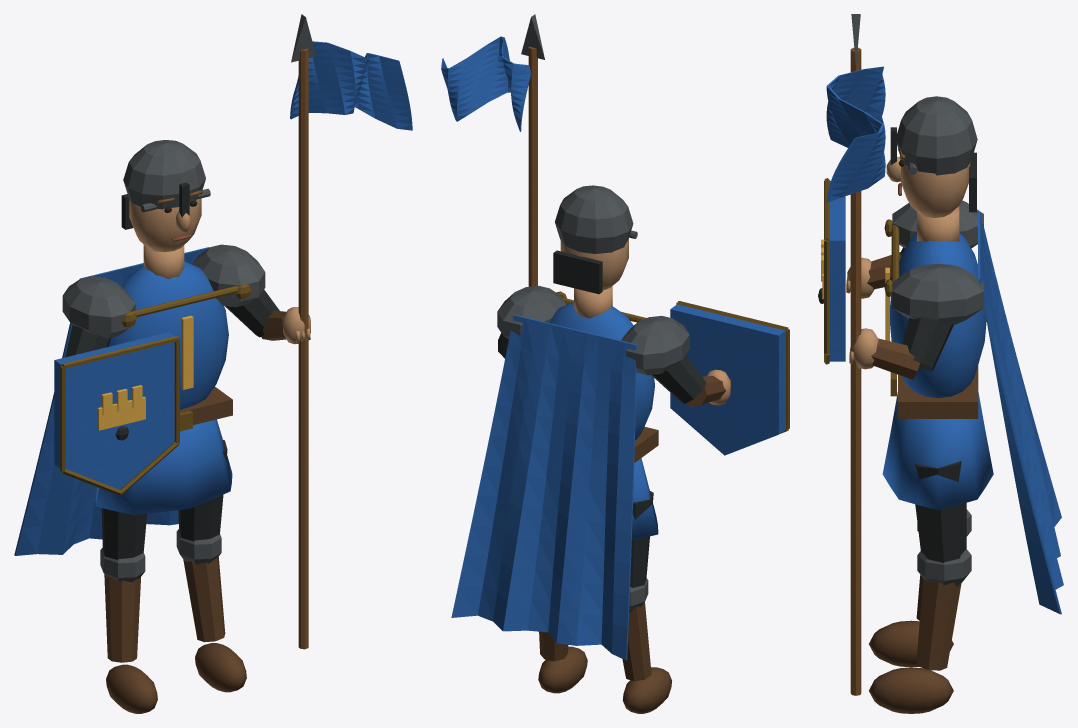
The model's file is SM_HeroeCapitan_A_LOD0.fbx.
3 renders of one model, left to right at view 1: azimuth 30°, elevation 25°; view 2: azimuth 150°, elevation 25°; view 3: azimuth 270°, elevation 25°, orthographic. The views are drawn at different scales.
Parts seen in each view (by area): view 1: SM_HeroeCapitan_A_LOD0; view 2: SM_HeroeCapitan_A_LOD0; view 3: SM_HeroeCapitan_A_LOD0.
Boxes of the visible parts, left/top/right/bottom form: SM_HeroeCapitan_A_LOD0: left=14, top=14, right=412, bottom=713; SM_HeroeCapitan_A_LOD0: left=441, top=14, right=789, bottom=713; SM_HeroeCapitan_A_LOD0: left=818, top=14, right=1063, bottom=713.
Size of the model in its own units: 0.2766 by 0.509 by 0.1558.
Materials: 1 (1 with a texture image).
